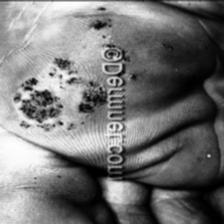Toxin: (28, 76, 66, 122), (74, 82, 110, 119)
